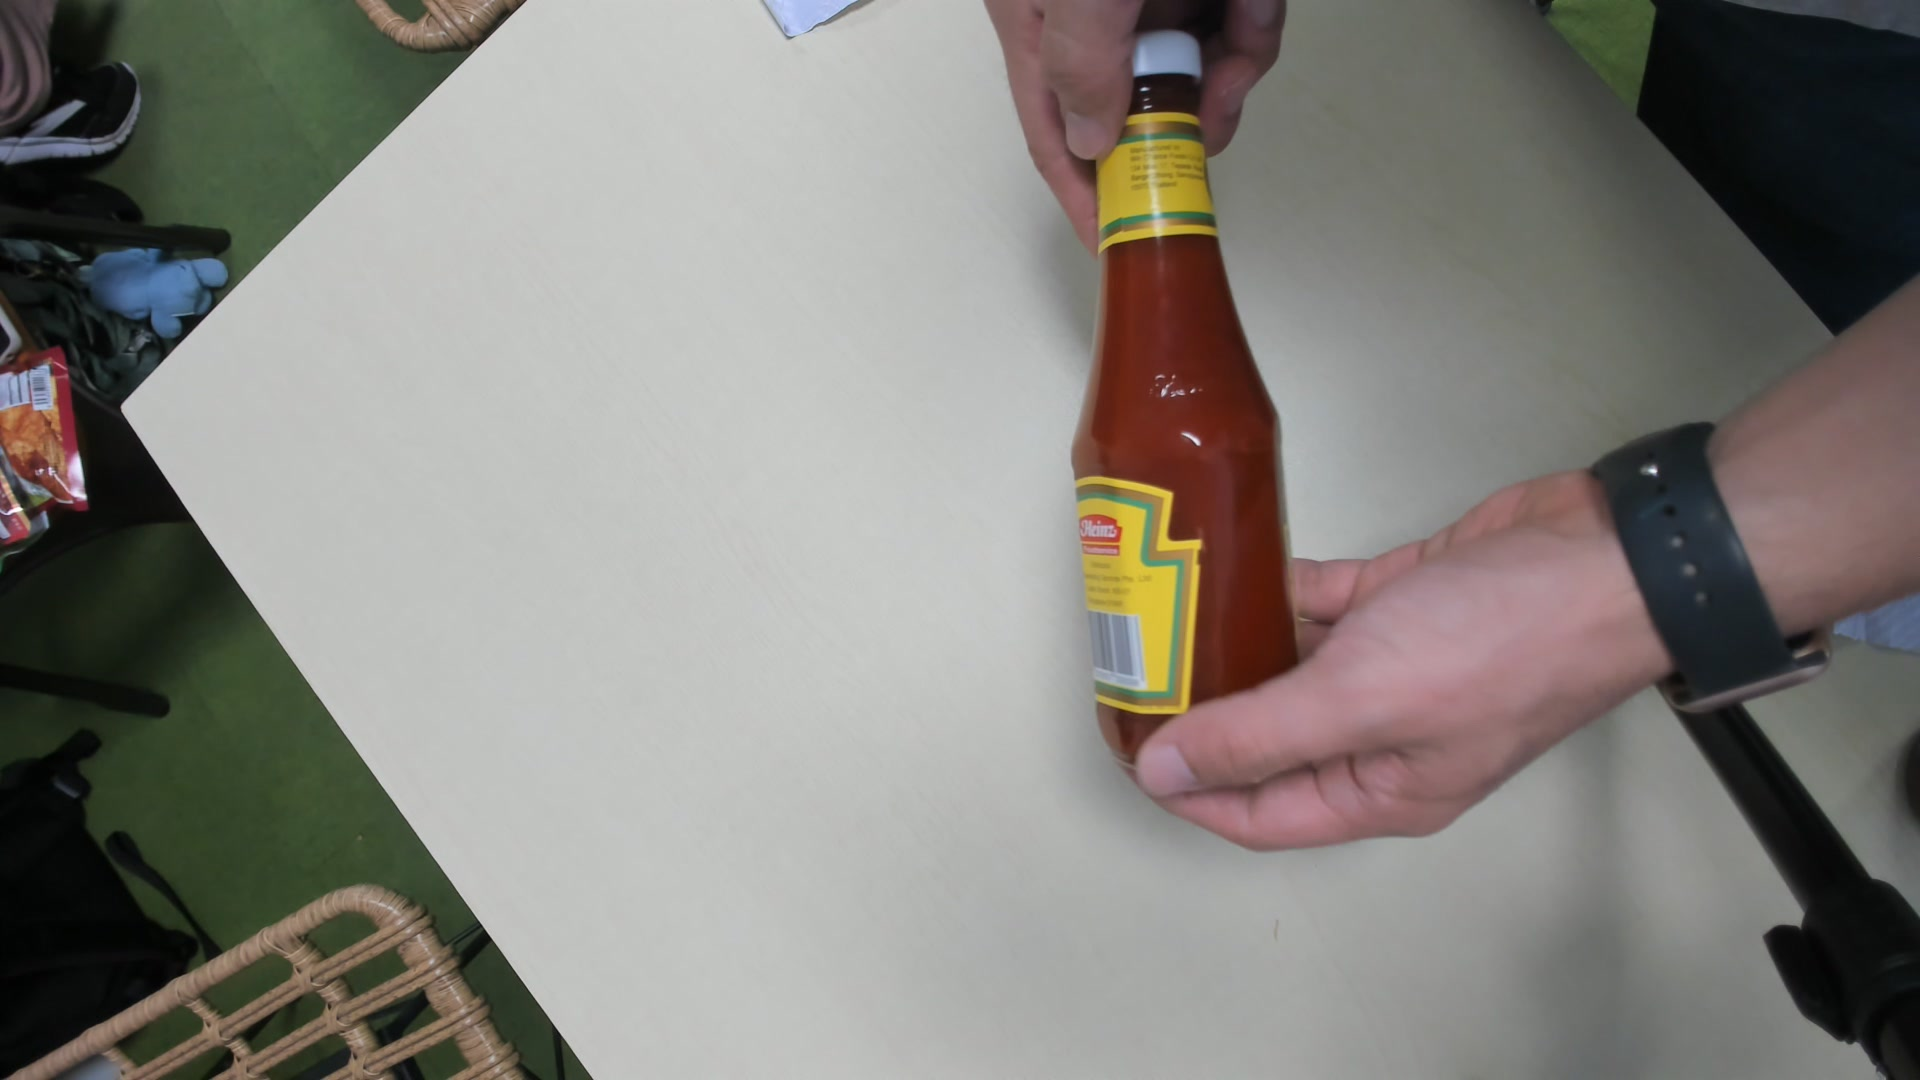KetchupChillSauce_300-399g_Halal_NonHealthy: (1063, 22, 1305, 774)
